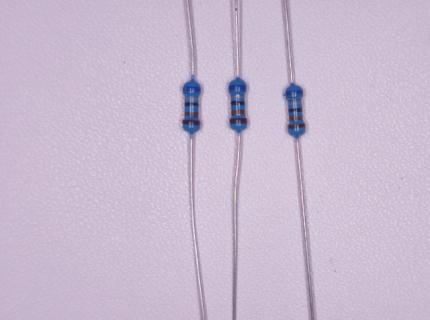Black band: (185, 102, 199, 108), (289, 107, 303, 113), (231, 101, 245, 106)
Blue band: (285, 89, 304, 97), (229, 85, 248, 91), (183, 86, 201, 92)
Brown band: (182, 119, 200, 127), (229, 118, 247, 125), (287, 123, 305, 129)
Grey band: (183, 96, 199, 102), (288, 101, 303, 106), (230, 94, 245, 99)
Orange band: (184, 112, 199, 118), (230, 110, 245, 116), (289, 115, 303, 121)
